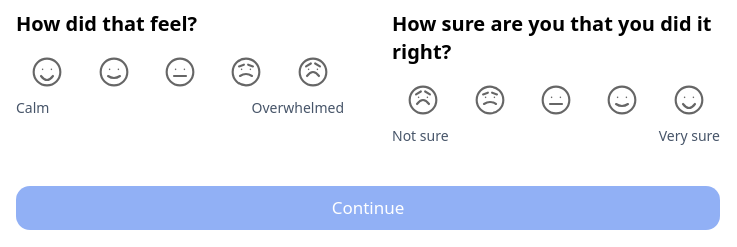
FeedbackCheckScreen › gates Continue until both questions are answered
Check: the button with test id "feedback-continue" is disabled, box [16,186,720,230]
Click the radio button named "Tense" at point(180, 72), box [149,50,211,94]
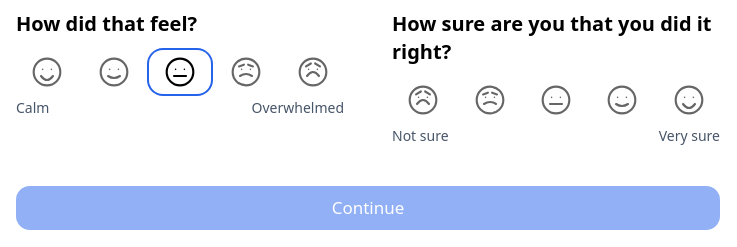
Check: the button with test id "feedback-continue" is disabled, box [16,186,720,230]
Click the radio button named "Fairly sure" at point(556, 100), box [525,78,587,122]
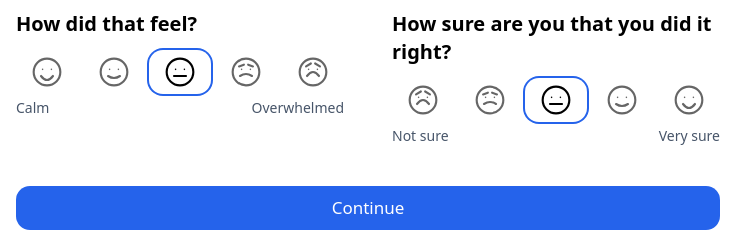
Check: the button with test id "feedback-continue" is enabled, box [16,186,720,230]
